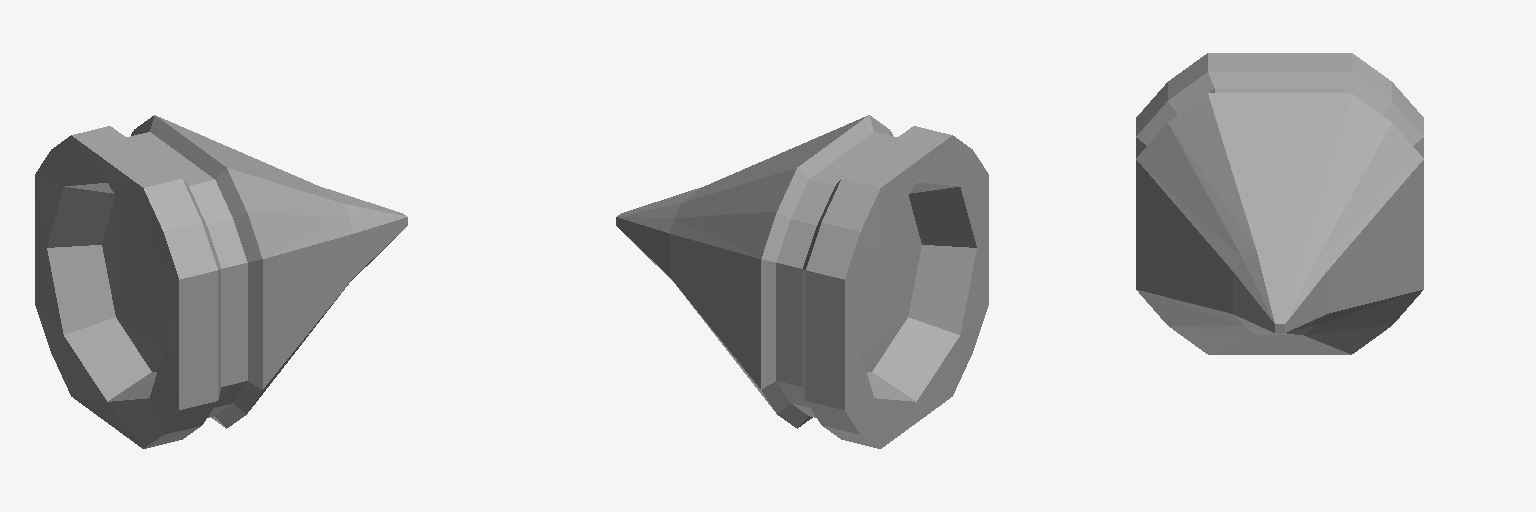
3 views of the same model, side by side, from view 1: azimuth 30°, elevation 25°; view 2: azimuth 150°, elevation 25°; view 3: azimuth 270°, elevation 25° (orthographic).
Visible parts, largest first — view 1: Cube.001; view 2: Cube.001; view 3: Cube.001.
Boxes of the visible parts, box(x1,y1,x2,y2) form: Cube.001: box(35, 115, 407, 448); Cube.001: box(616, 115, 988, 448); Cube.001: box(1136, 53, 1423, 354).
Bounding box in the file's own units: 2.39 × 2 × 2.
Materials: 1 (1 with a texture image).